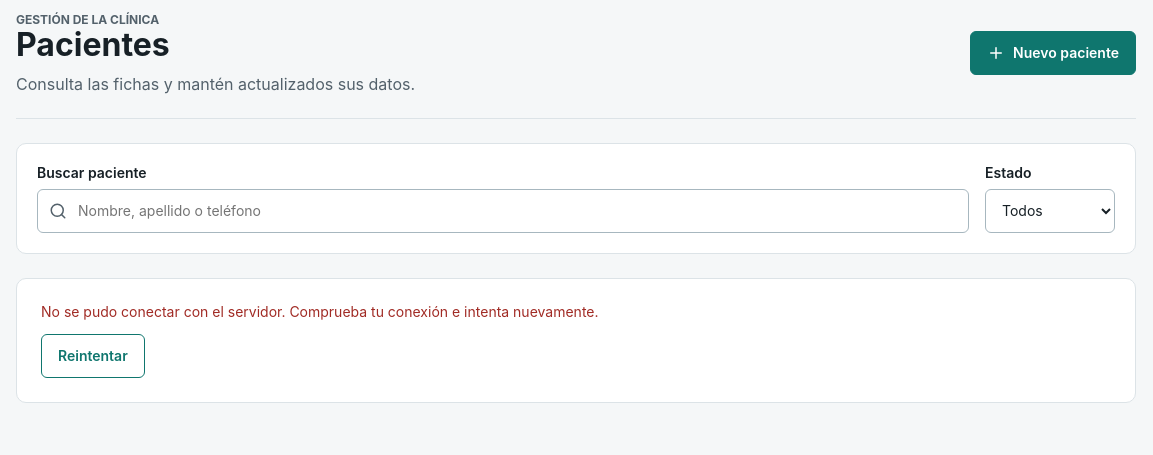
Test: gestion de pacientes › muestra un error de consulta y permite reintentar
The image size is (1153, 455).
Expected: the message is shown, [41, 303, 598, 320]
What coordinates should you click on to do the following:
click the button "Reintentar"
I would click on:
 (93, 356)
Its box is [41, 334, 145, 378].
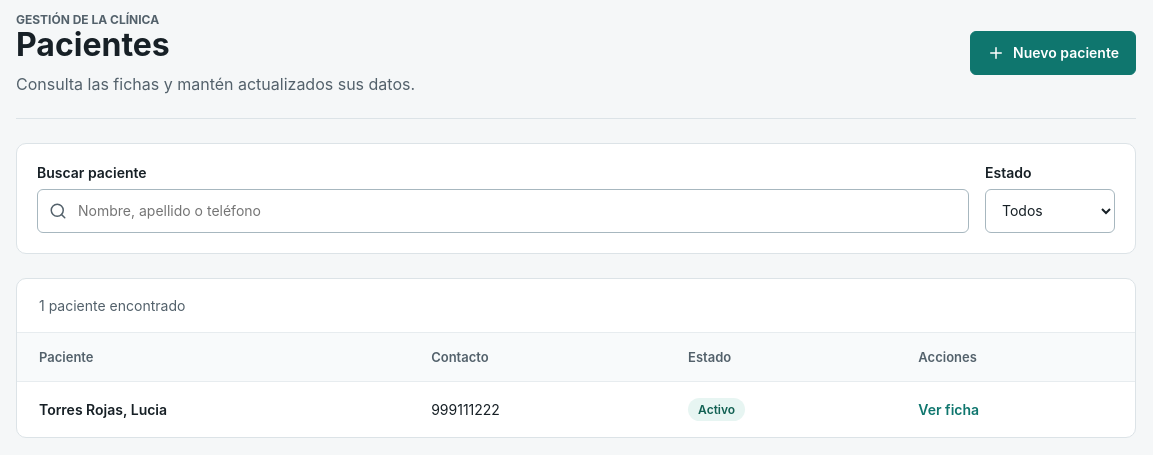
Expected: the link "Torres Rojas, Lucia" is shown, [39, 401, 167, 418]
